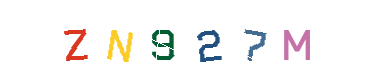2: (155, 0, 235, 80)
7: (180, 0, 260, 80)
9: (123, 0, 203, 80)
M: (238, 0, 318, 80)
N: (80, 0, 160, 80)
Z: (35, 0, 115, 80)
